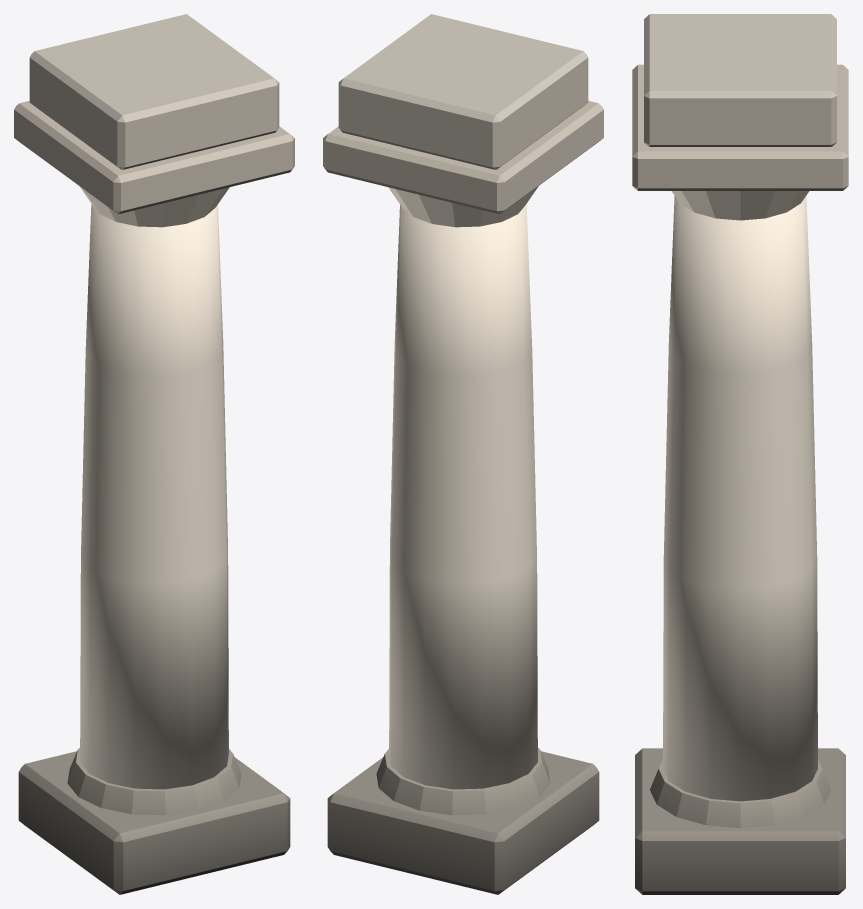
File: SM_VKI_Prop_Column_Ancient.fbx
The picture shows the model from 3 angles, left to right: view 1: azimuth 30°, elevation 25°; view 2: azimuth 150°, elevation 25°; view 3: azimuth 270°, elevation 25°; orthographic projection. The views are drawn at different scales.
Parts seen in each view (by area): view 1: SM_VKI_Prop_Column_Ancient.001; view 2: SM_VKI_Prop_Column_Ancient.001; view 3: SM_VKI_Prop_Column_Ancient.001.
Boxes of the visible parts, box(x1,y1,x2,y2) form: SM_VKI_Prop_Column_Ancient.001: box(14, 14, 294, 894); SM_VKI_Prop_Column_Ancient.001: box(323, 14, 603, 894); SM_VKI_Prop_Column_Ancient.001: box(632, 14, 848, 894).
Size of the model in its own units: 0.74 by 3.02 by 0.74.
